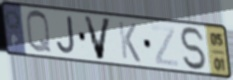J: (55, 15, 77, 56)
K: (117, 20, 142, 65)
Q: (24, 9, 54, 56)
S: (178, 25, 209, 73)
V: (81, 14, 114, 62)
Z: (150, 23, 180, 69)
